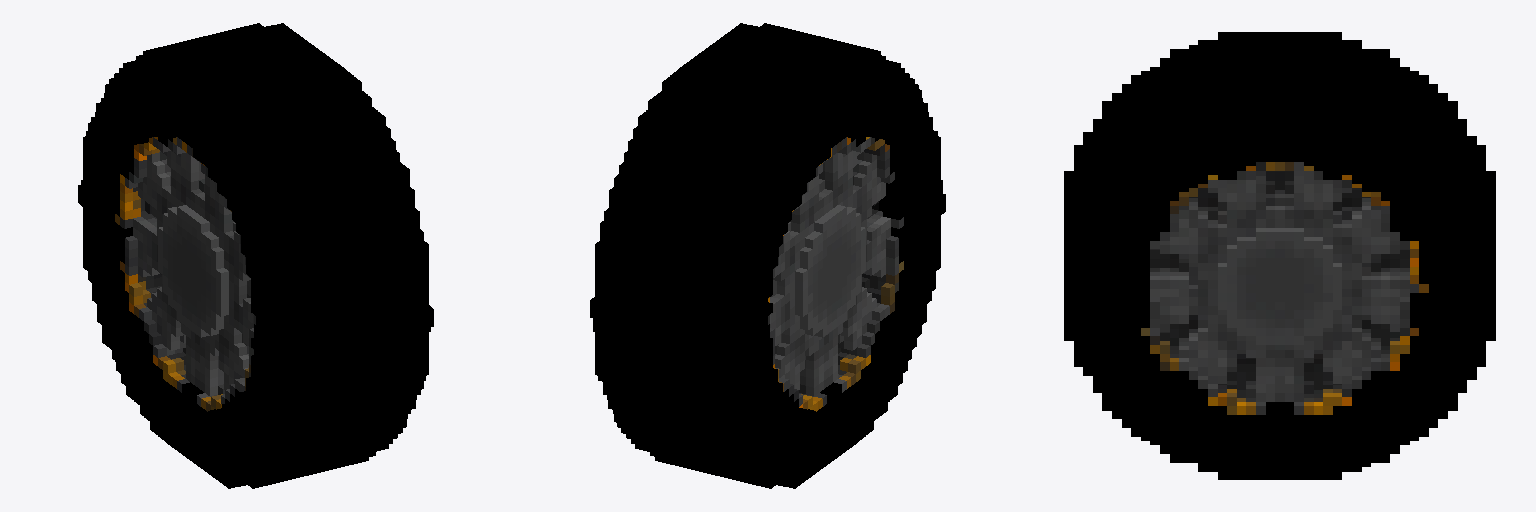
3 renders of one model, left to right at view 1: azimuth 30°, elevation 25°; view 2: azimuth 150°, elevation 25°; view 3: azimuth 270°, elevation 25°, orthographic.
Visible parts, largest first — view 1: object 1; view 2: object 1; view 3: object 1.
Boxes of the visible parts, x1=… form: object 1: x1=78, y1=23, x2=433, y2=488; object 1: x1=590, y1=23, x2=945, y2=488; object 1: x1=1064, y1=32, x2=1495, y2=479.
Size of the model in its own units: 1.8 by 4.5 by 4.5.
Materials: 1 (1 with a texture image).